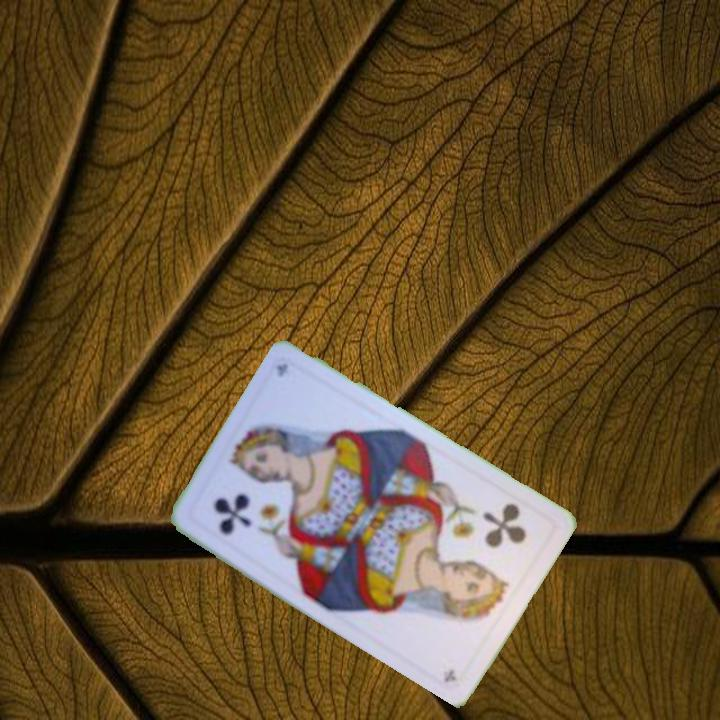c_q.png: (434, 480, 558, 608), (184, 436, 307, 564)
